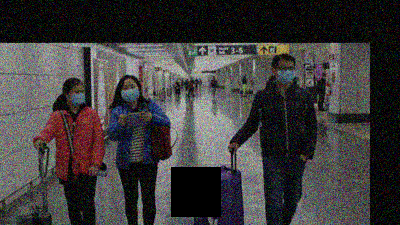with_mask: (276, 63, 296, 84), (121, 83, 141, 103), (69, 86, 86, 106), (324, 74, 327, 80), (213, 76, 216, 79), (187, 78, 189, 81), (186, 79, 188, 81), (177, 80, 178, 82), (196, 77, 197, 79), (200, 78, 201, 80)
without_mask: (245, 74, 247, 77)
